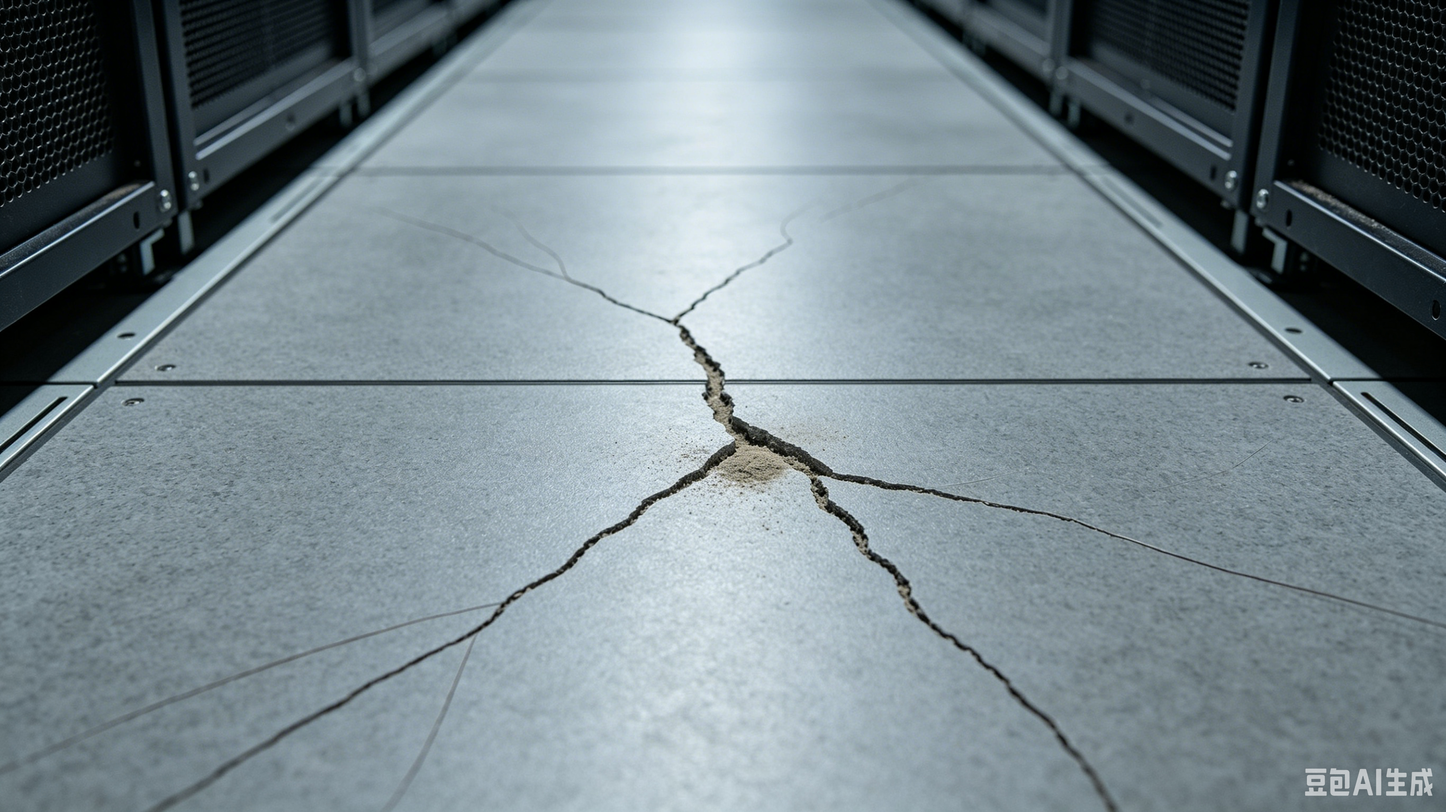floor_defect: (585, 265, 940, 622), (947, 472, 1388, 615), (316, 533, 584, 719), (927, 628, 1118, 812), (132, 716, 338, 806), (699, 191, 833, 257)
